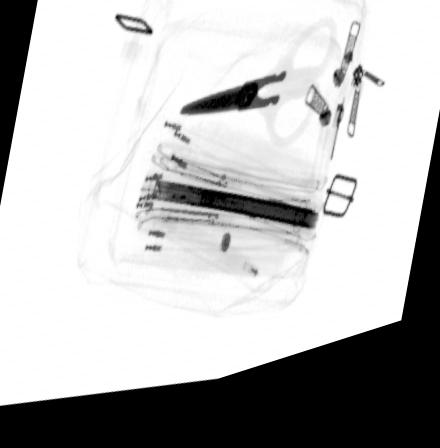Scissors: (177, 32, 333, 164)
